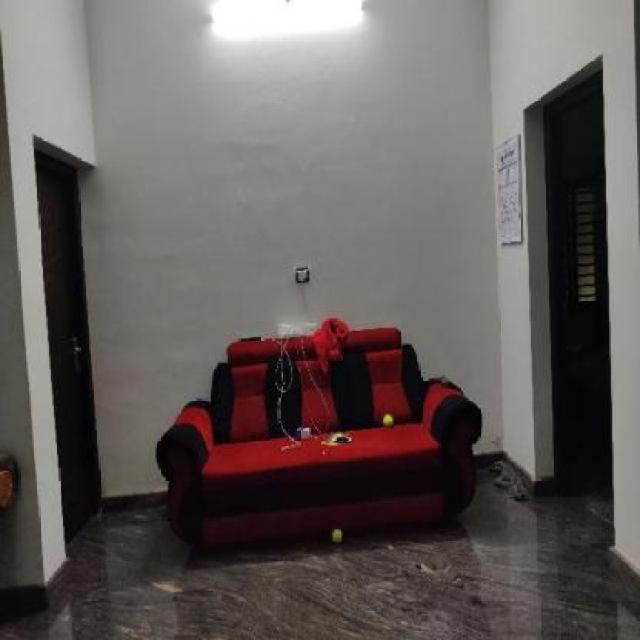-: (371, 402, 405, 446), (327, 508, 350, 560)
